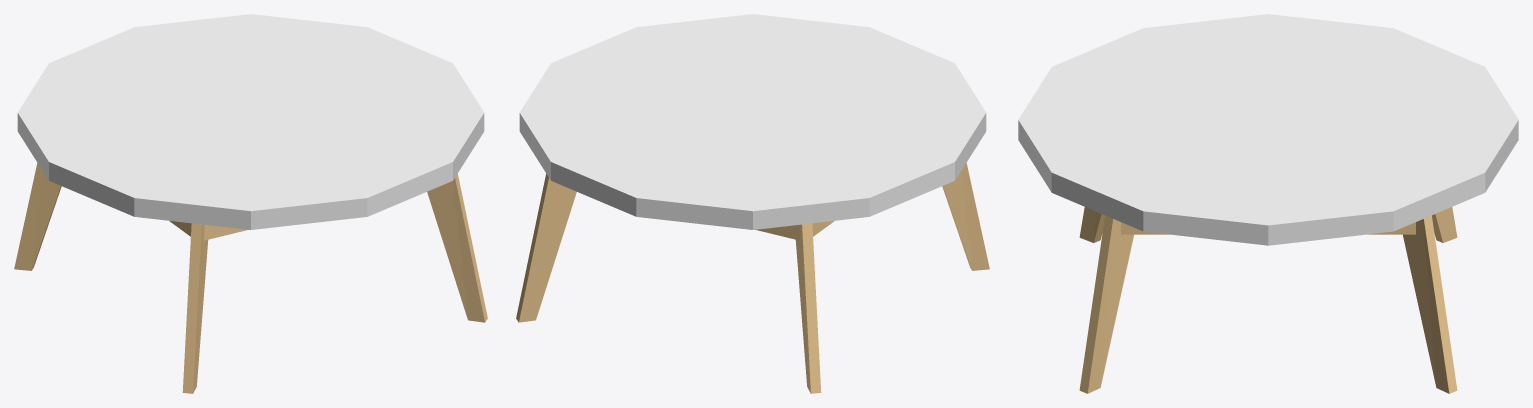
Rendered from Table.fbx.
3 renders of one model, left to right at view 1: azimuth 30°, elevation 25°; view 2: azimuth 150°, elevation 25°; view 3: azimuth 270°, elevation 25°, orthographic. The views are drawn at different scales.
Parts seen in each view (by area): view 1: Table; view 2: Table; view 3: Table.
Part boxes in pixels (bbox=[...]): Table: bbox=[14, 14, 487, 393]; Table: bbox=[516, 14, 989, 393]; Table: bbox=[1018, 14, 1518, 393].
Size of the model in its own units: 1.4 by 0.6 by 1.4.
Materials: 1 (1 with a texture image).
